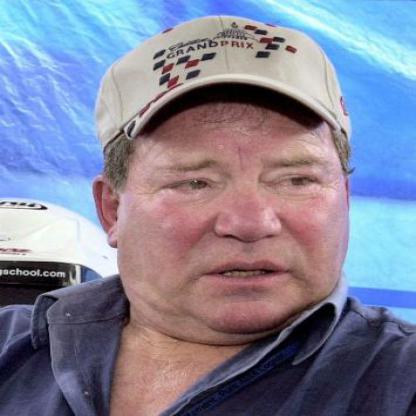face: (116, 52, 366, 335)
